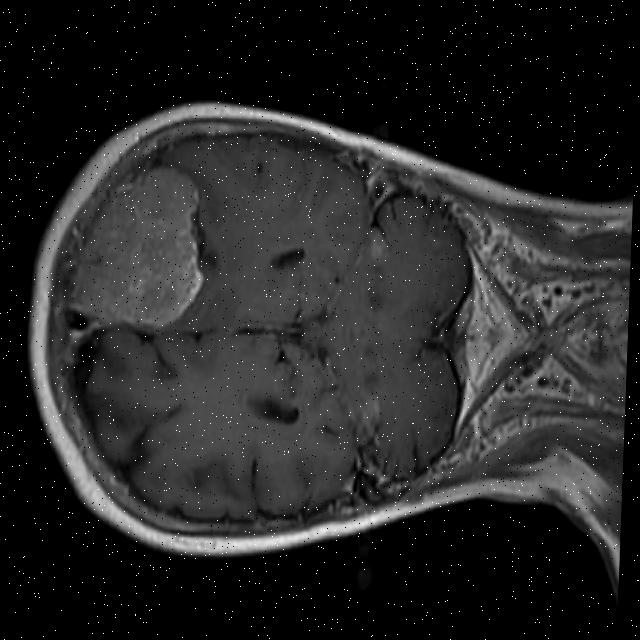Meningioma: (64, 162, 213, 332)
